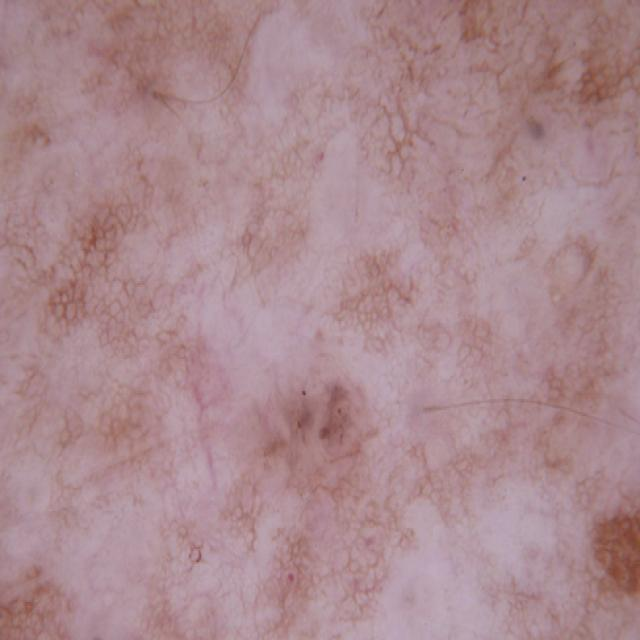Carcinoma: (0, 169, 640, 640)
